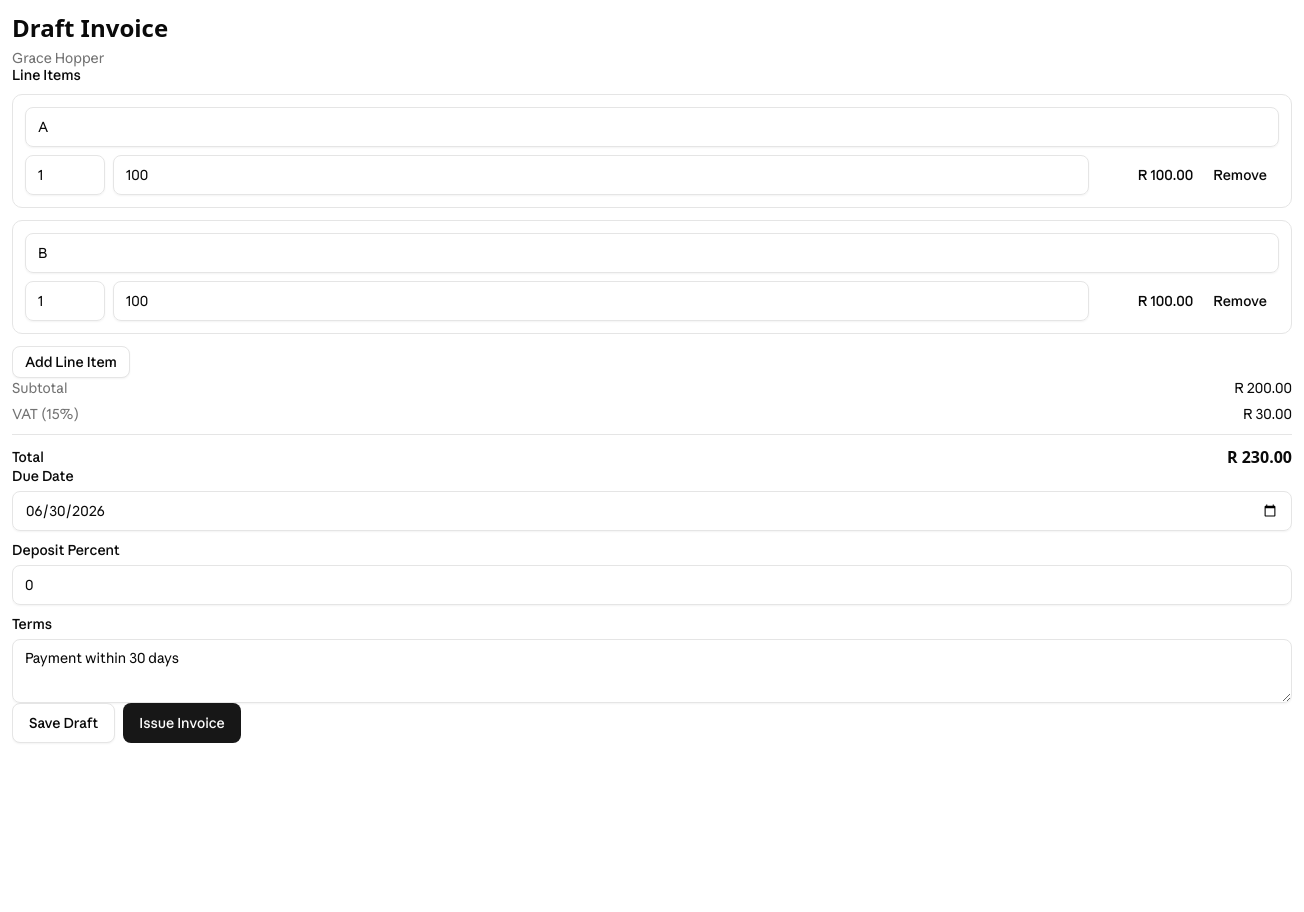
InvoiceEditorClient — draft view › removes a line item and recalculates the subtotal
Expected: the number of fields with placeholder "Description" is 2, [25,107,1279,147]; [25,233,1279,273]
Click the 1st button "Remove".
click(1240, 175)  # box [1201,159,1279,191]
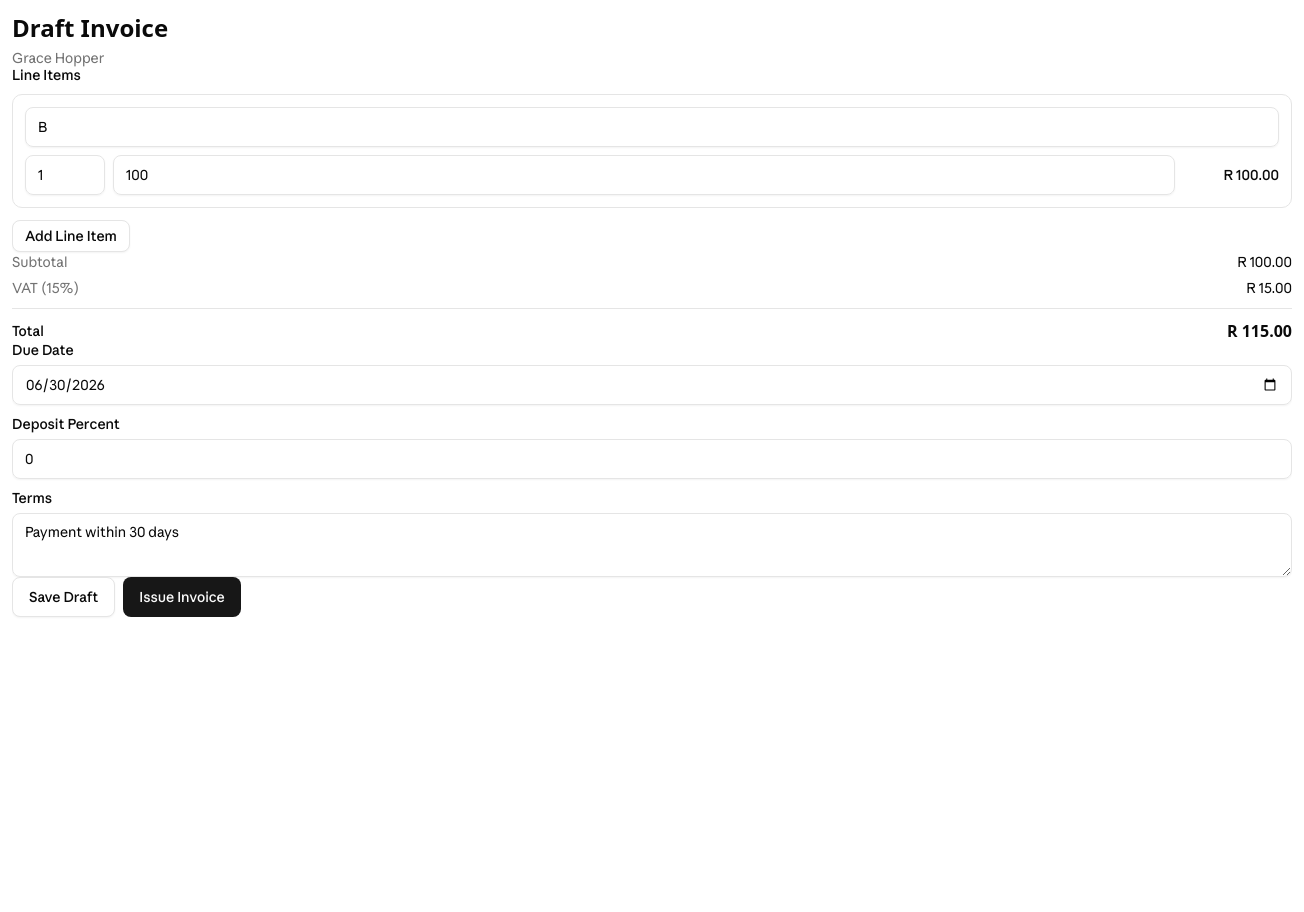
Now the number of fields with placeholder "Description" is 1, box [25,107,1279,147]
